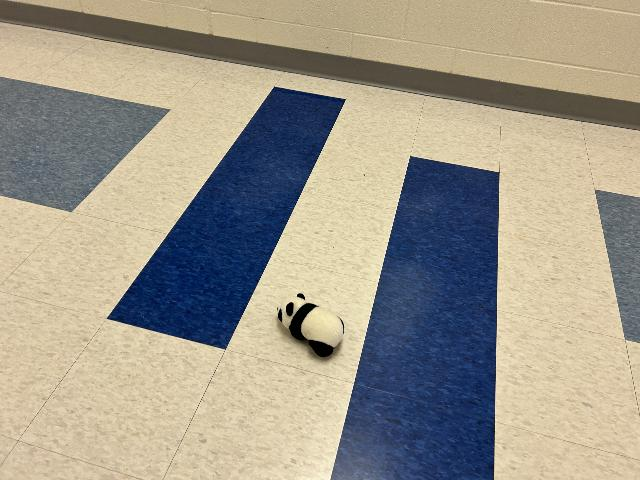panda_plushie: (276, 293, 344, 357)
